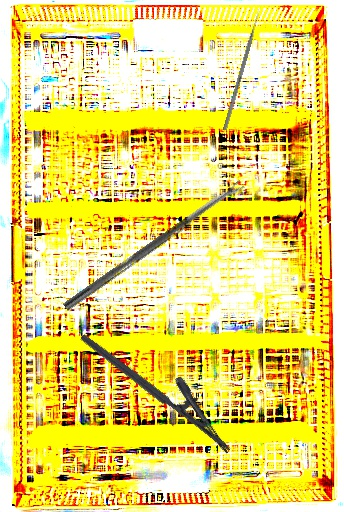Needle Holder: (79, 313, 247, 455)
Pusher: (222, 5, 263, 131)
Surgical Spoon: (62, 179, 246, 313)
